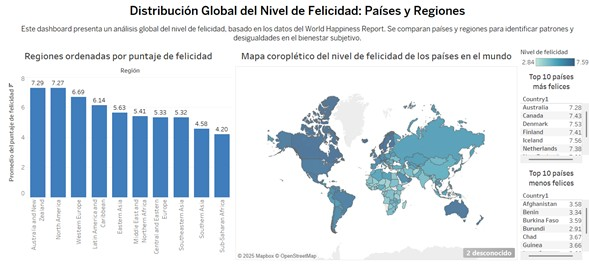

The dashboard page shown, as its layout file describes it:
{"tool":"tableau","page":{"name":"Dashboard 1","canvas":[1520,680],"ordinal":0},"visuals":[{"type":"text","box":[8,8,1504,49]},{"type":"text","box":[8,57,1504,66]},{"type":"worksheet","title":"Regiones ordenadas","mark":"Automatic","rows":["Happiness Score"],"cols":["Region"],"box":[8,123,589.7,549]},{"type":"worksheet","title":"Mapa coroplético","mark":"Automatic","box":[597.7,123,727.3,549]},{"type":"legend","title":"Mapa coroplético","param":"[federated.1xikr2n17yirka1ass5e20s67626].[sum:Happiness Score:qk]","box":[1325,123,187,56]},{"type":"worksheet","title":"Top países más felices","mark":"Automatic","rows":["Country"],"box":[1325,179,187,246.5]},{"type":"worksheet","title":"Top países menos felices","mark":"Automatic","rows":["Country"],"box":[1325,425.5,187,246.5]}]}

Visuals, with their boxes in screenshot pixels (x1, y1, x2, y2), scaled from the page's 1520x680 canvas onto the 589x264 screenshot:
text: box=[3, 3, 586, 22]
text: box=[3, 22, 586, 48]
"Regiones ordenadas" worksheet: box=[3, 48, 232, 261]
"Mapa coroplético" worksheet: box=[232, 48, 513, 261]
"Mapa coroplético" legend: box=[513, 48, 586, 69]
"Top países más felices" worksheet: box=[513, 69, 586, 165]
"Top países menos felices" worksheet: box=[513, 165, 586, 261]
